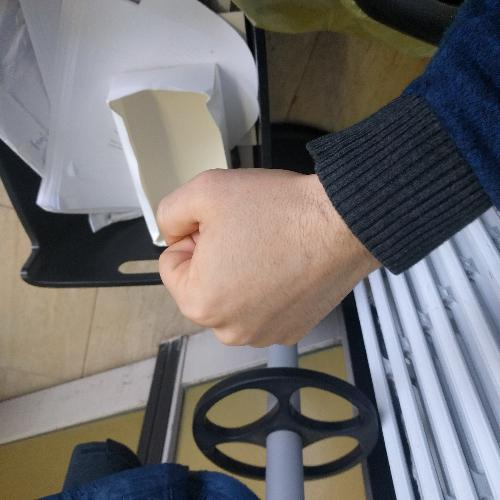rock: (151, 160, 382, 357)
